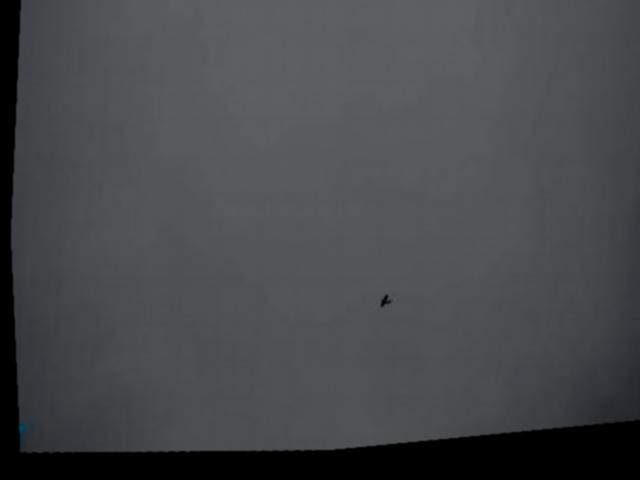uav: (368, 291, 397, 321)
